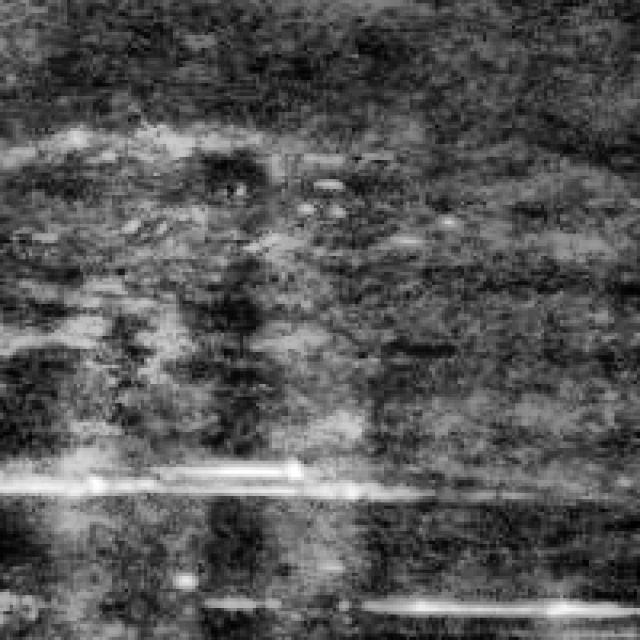Inclusion: (0, 448, 378, 509), (358, 576, 630, 624)
